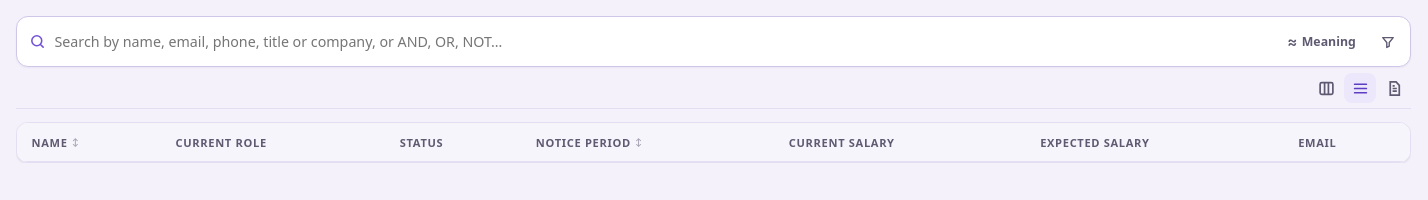
Scenario: boolean rules in a list's search box › runs the candidates' boolean search of CVs and profiles, with the filters
Replace the text in the field named "Search candidates" with "SAP AND (BW OR BPC) NOT intern*": coordinates (662, 42) [52,22,1272,62]
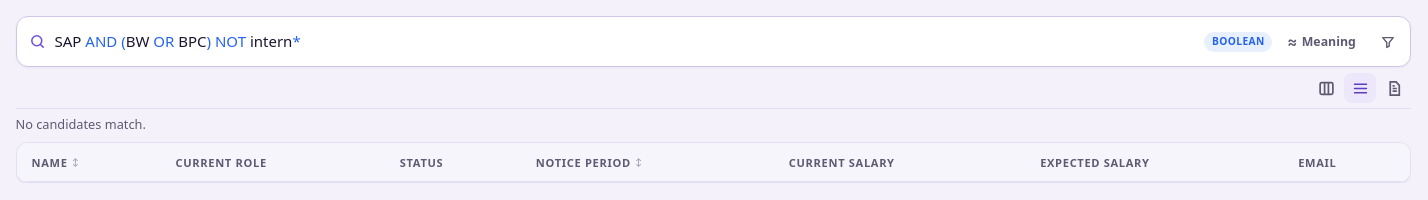
Expected: the text "Boolean" is shown, [1204,32,1272,52]
